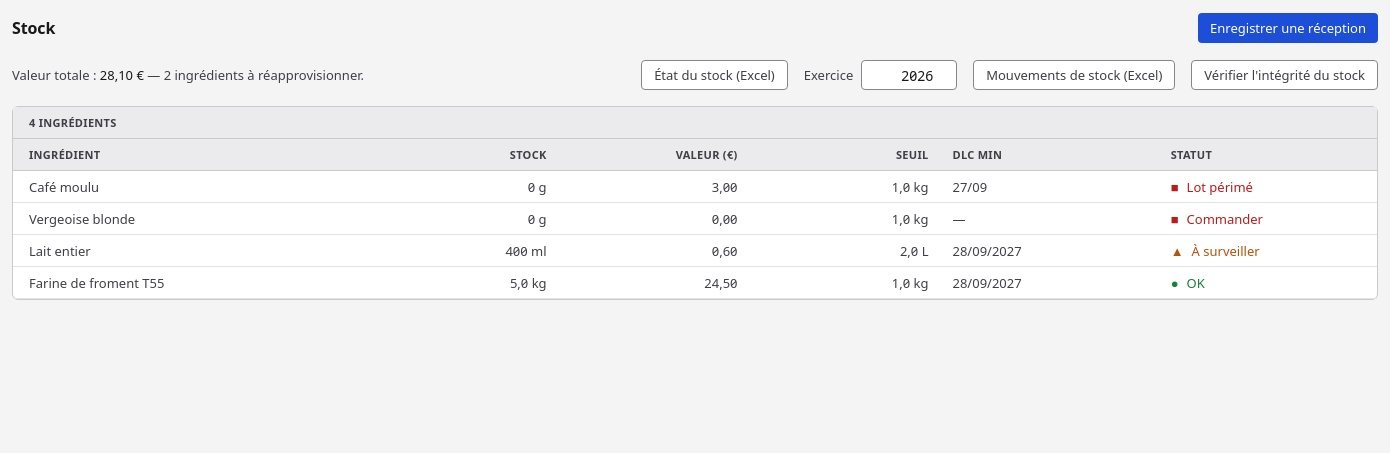
Test: Stock — détail par lot, clavier › un échec du détail par lot laisse le tableau principal intact
Step 1. Click the row "Café moulu 0 g 3,00 1,0 kg 27/09 ■ Lot périmé" → (695, 187), box [13,171,1377,203]
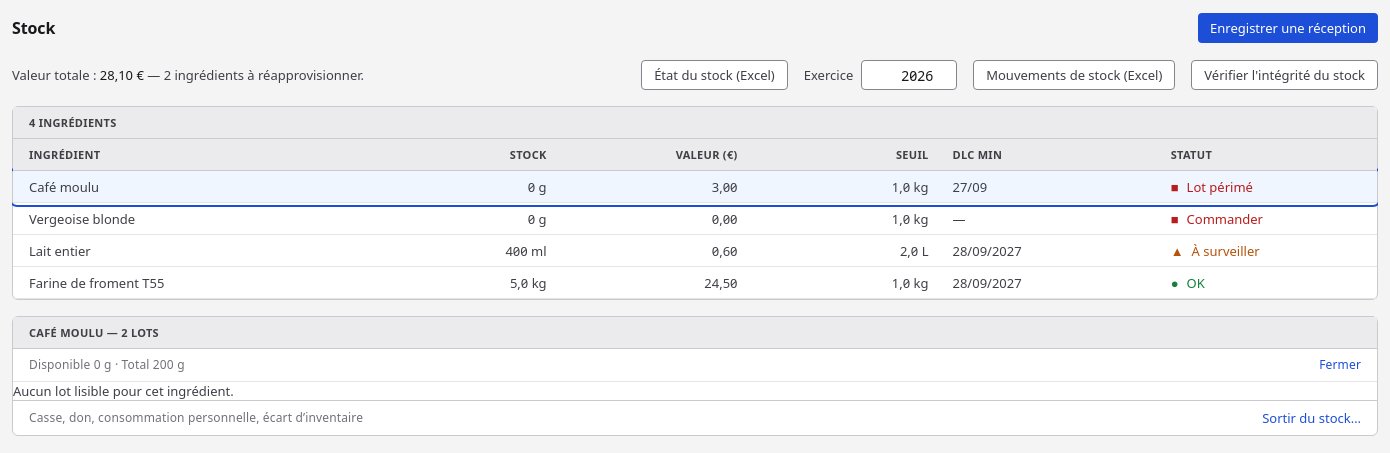
Expected: the row "Farine de froment T55 5,0 kg 24,50 1,0 kg 28/09/2027 ● OK" is shown, [13,267,1377,299]
Now the message shows "Aucun lot lisible", box [13,382,234,400]
